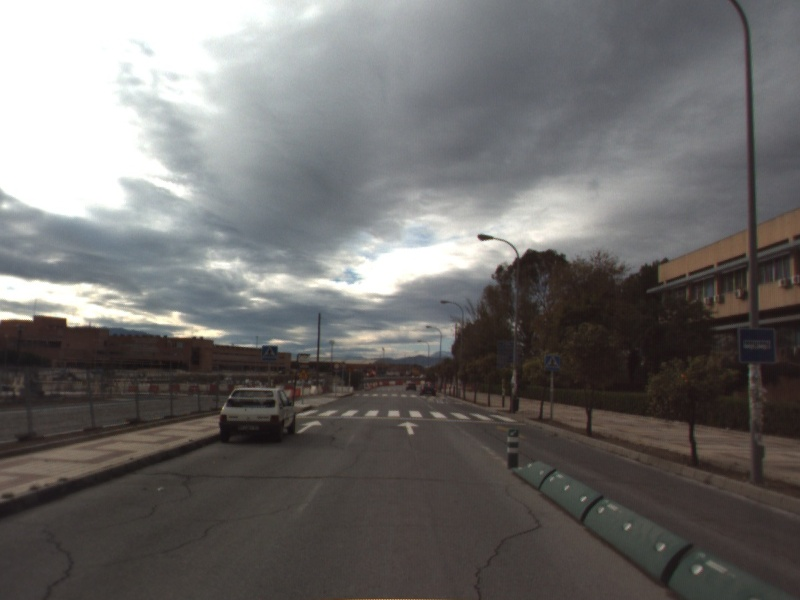STRAIGHT: (294, 418, 324, 435), (395, 419, 422, 436)
